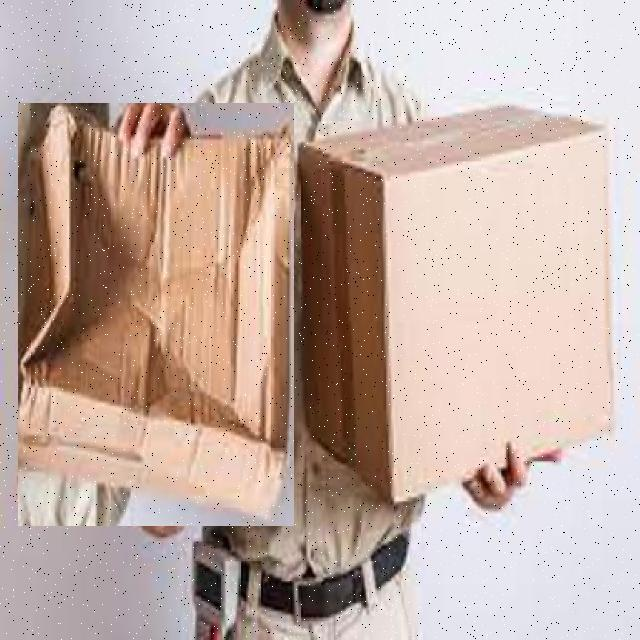defect: (18, 103, 294, 526)
normal: (297, 101, 617, 498)
